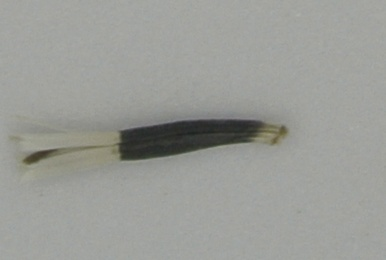เมล็ดดีติดกัน: (6, 107, 299, 183)
